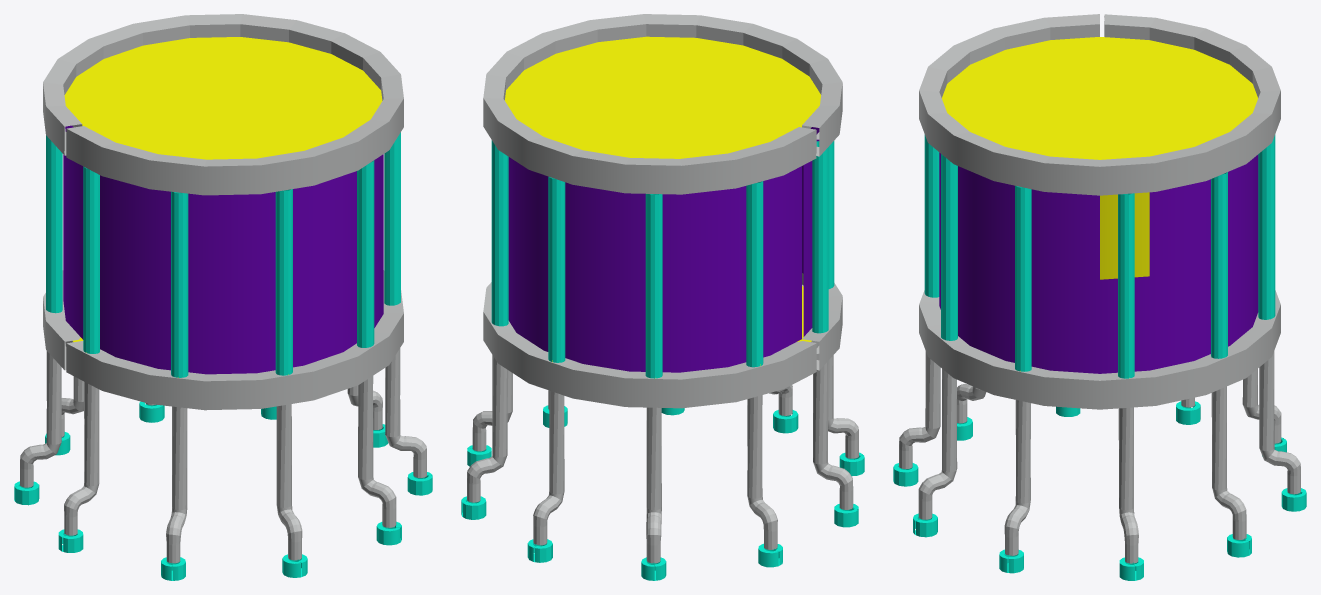
File: TOM_DE_PISO.fbx
3 views of the same model, side by side, from view 1: azimuth 30°, elevation 25°; view 2: azimuth 150°, elevation 25°; view 3: azimuth 270°, elevation 25° (orthographic).
Parts seen in each view (by area): view 1: pCylinder17; view 2: pCylinder17; view 3: pCylinder17.
Part boxes in pixels (bbox=[...]): pCylinder17: bbox=[14, 14, 432, 580]; pCylinder17: bbox=[461, 14, 864, 580]; pCylinder17: bbox=[893, 14, 1306, 580].
Size of the model in its own units: 5.82 by 6.29 by 5.84.
2 materials, 2 textured.
